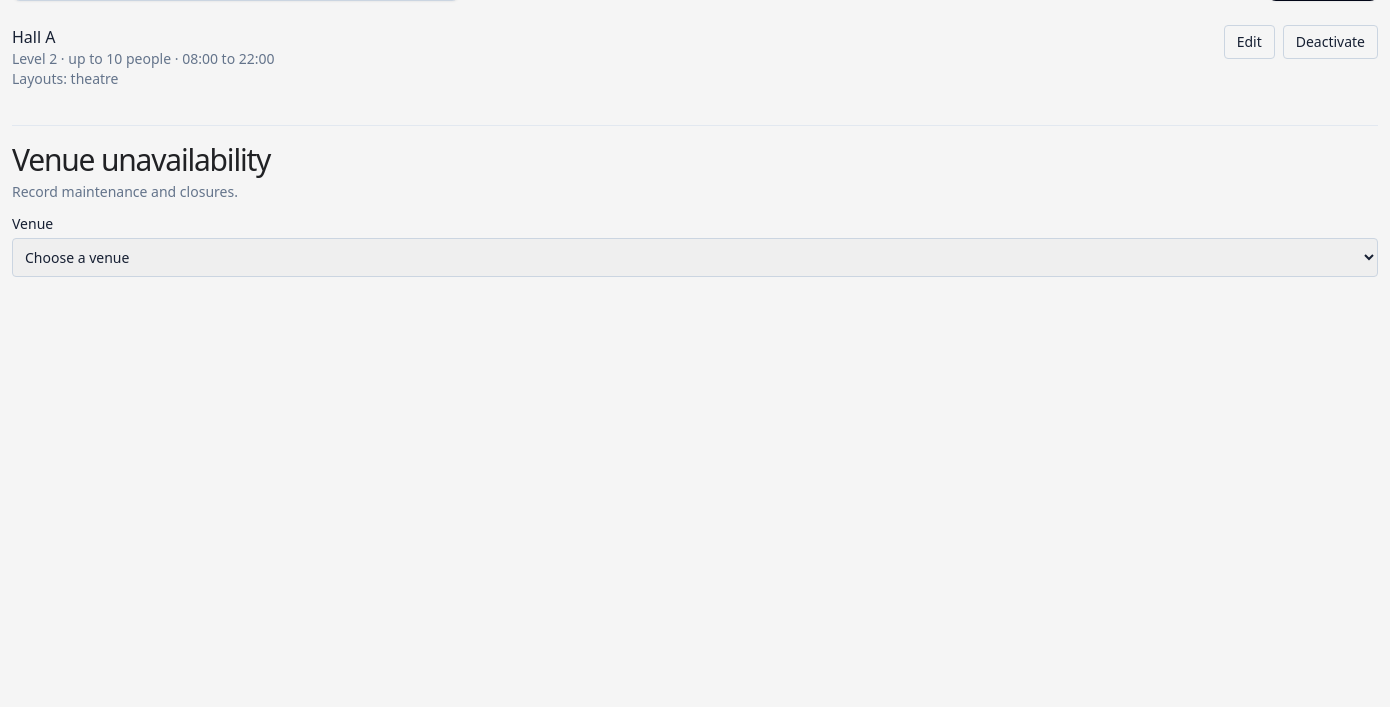
Test case: SCRUM-89 AC6: the save says what it did to existing bookings
Click the button with aria-label "Edit Hall A" at (1249, 42), box [1224,25,1275,59]
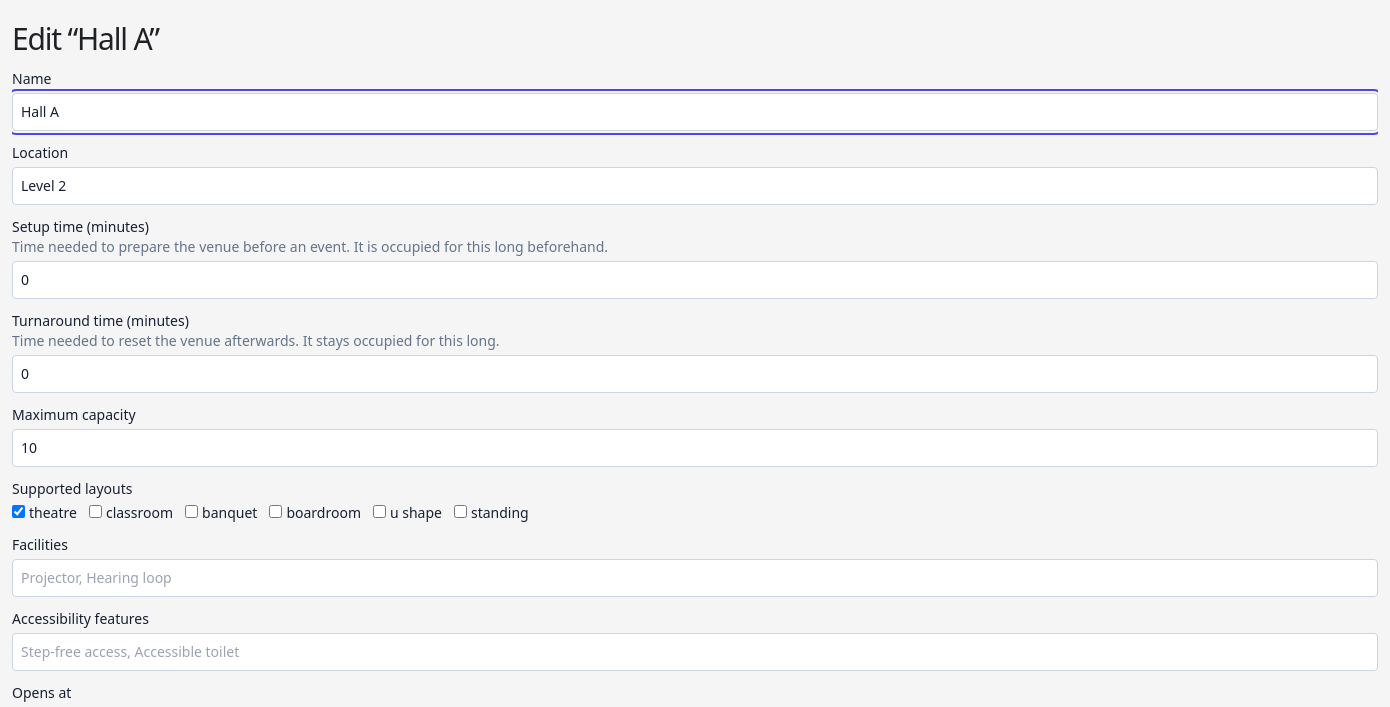
Replace the text in the number field labelled "Turnaround time" with "45" at (695, 374), box [12,355,1378,393]
(page scrolled)
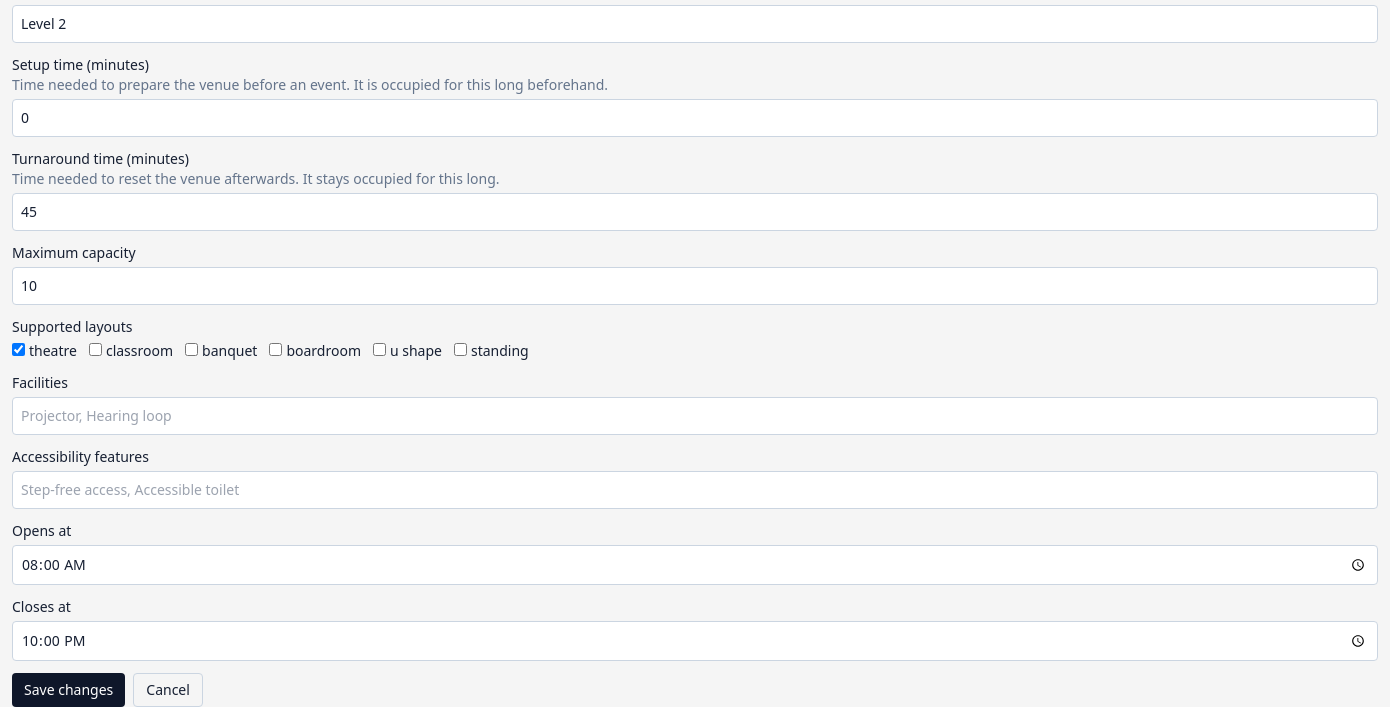
Click the button "Save changes" at (69, 690), box [12,673,125,706]
(page scrolled)
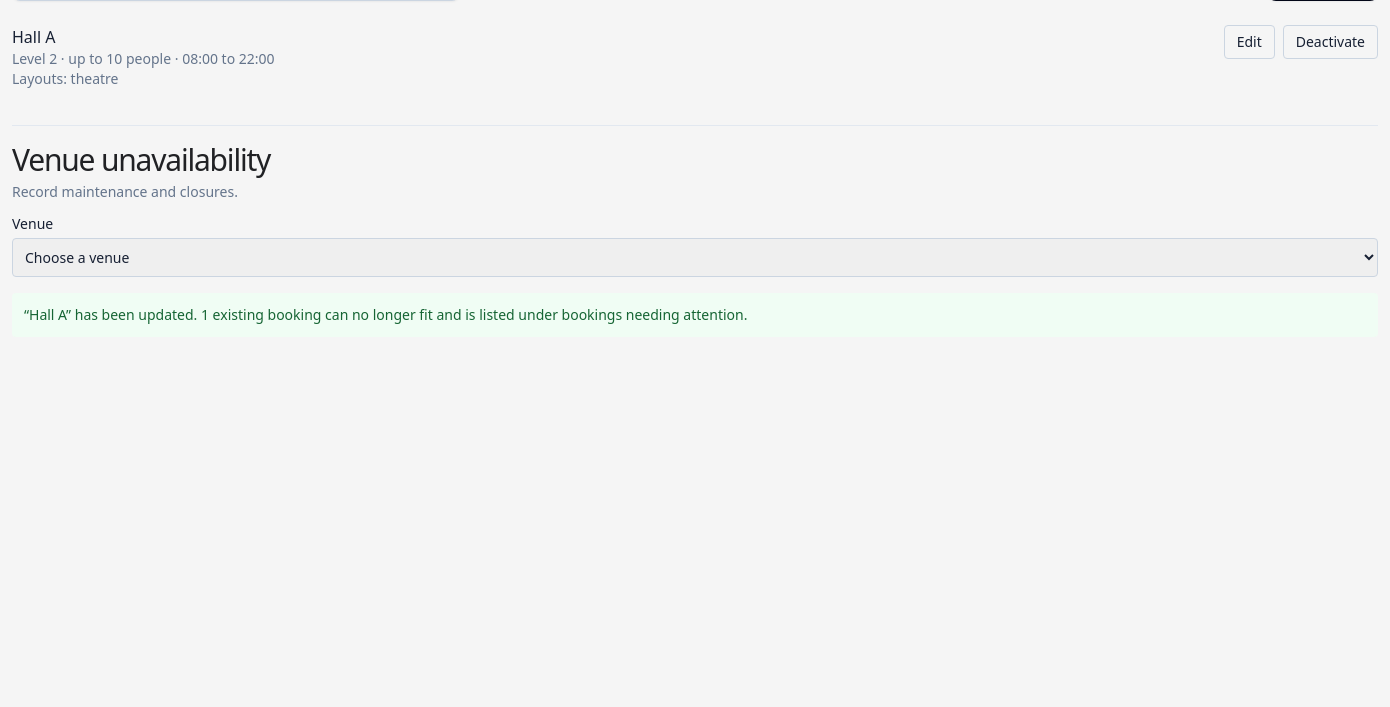
Check: the message shows "1 existing booking can no longer fit", box [24,305,747,324]
